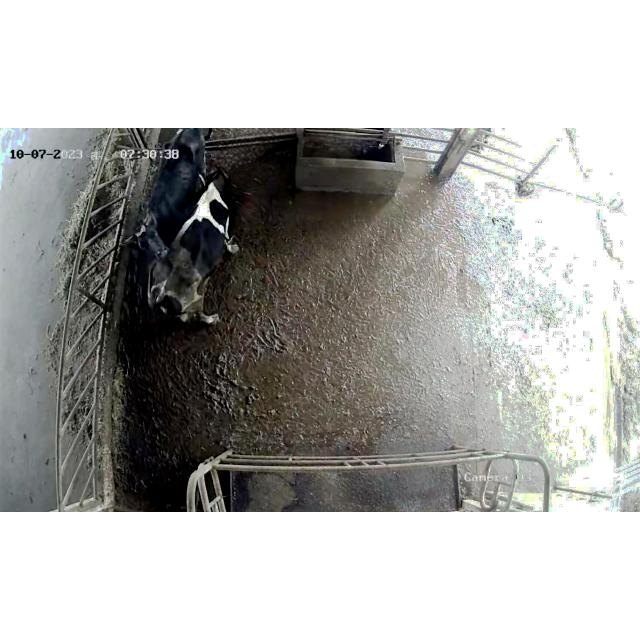propping: (120, 219, 206, 279)
stand: (146, 168, 246, 332)
